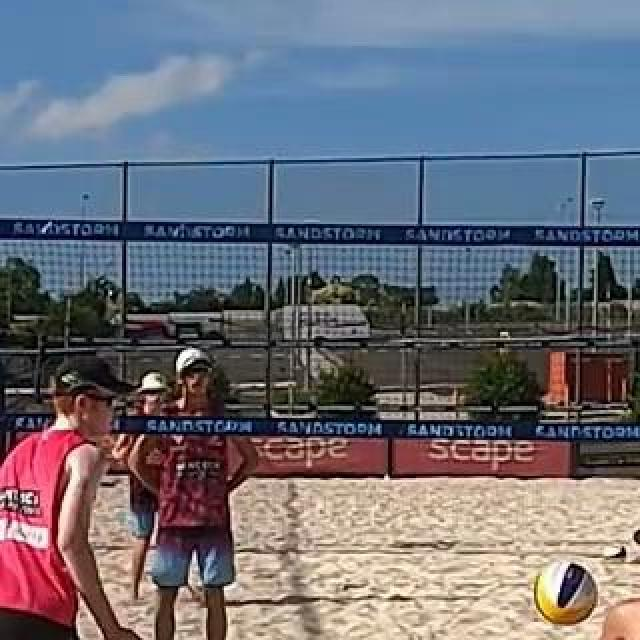volleyball: (534, 560, 596, 622)
